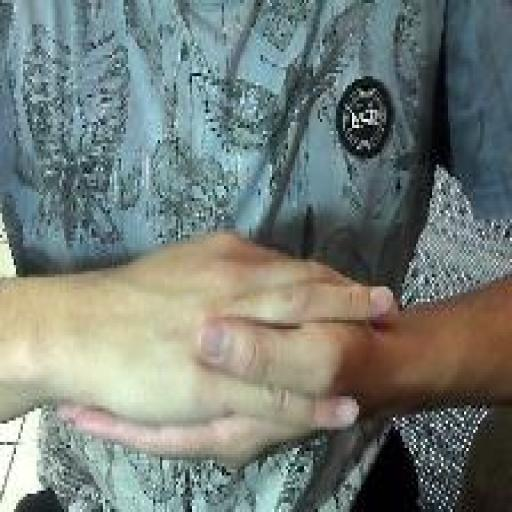Saru -monkey-: (50, 222, 407, 482)
